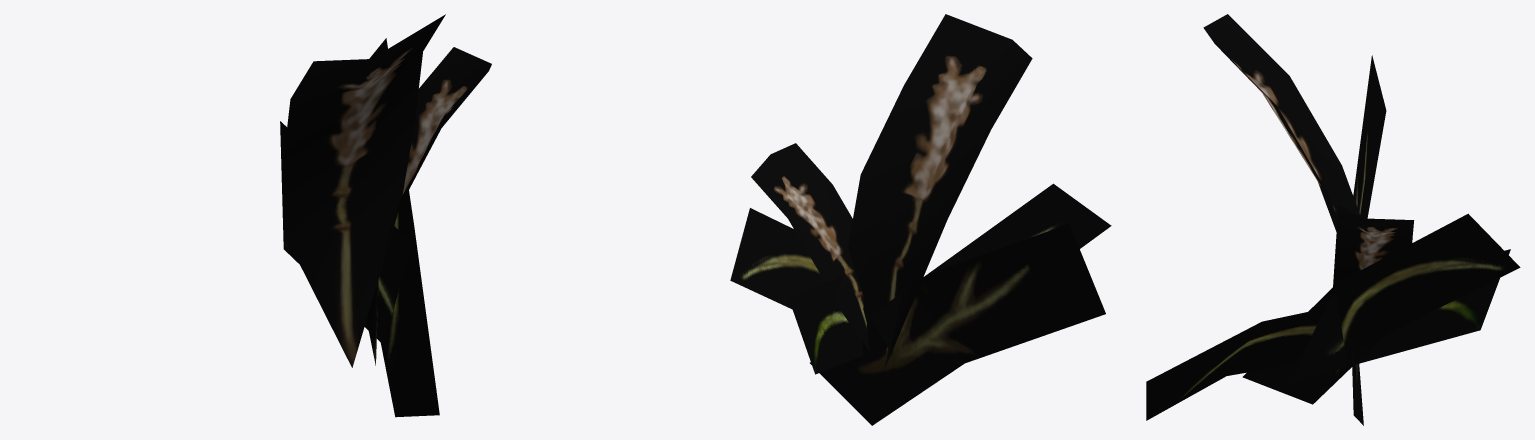
File: FOL_GrassC.FBX
3 renders of one model, left to right at view 1: azimuth 30°, elevation 25°; view 2: azimuth 150°, elevation 25°; view 3: azimuth 270°, elevation 25°, orthographic. The views are drawn at different scales.
Parts seen in each view (by area): view 1: FOL_GrassC; view 2: FOL_GrassC; view 3: FOL_GrassC.
Part boxes in pixels (box(x1,y1,x2,y2)): FOL_GrassC: box(280, 14, 491, 417); FOL_GrassC: box(730, 14, 1111, 425); FOL_GrassC: box(1146, 14, 1520, 425).
Bounding box in the file's own units: 117 × 100 × 90.86.
Materials: 1 (1 with a texture image).
